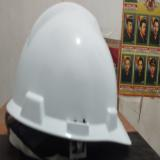Helmet: (6, 1, 132, 146)
